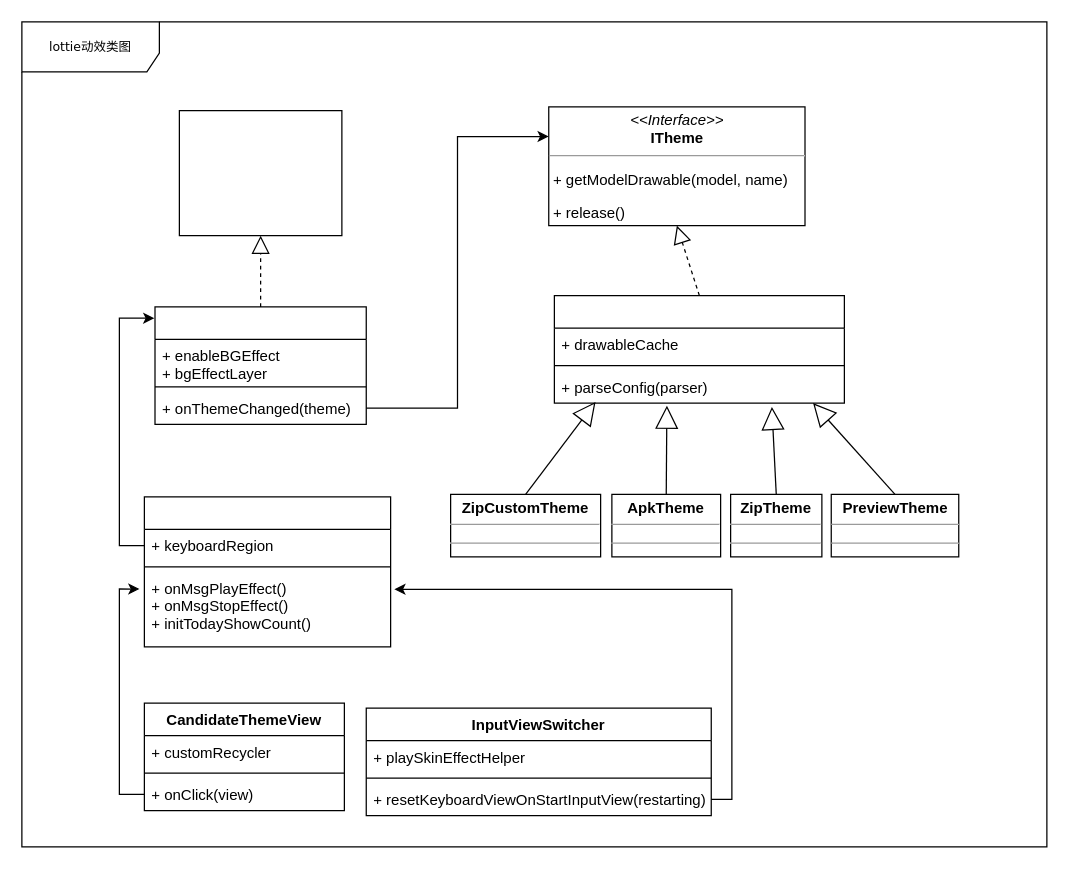
Some shapes in this 1069 by 869 pixel diagram are drawn without their labels. Here are the shapes that lost their labels. From the top down, the box of each, then its label:
(178, 109, 342, 236): <<Interface>> IPlayEffectView + startEffect () + stopEffect ()
(154, 306, 366, 424): KeyboardRegion
(553, 294, 844, 403): AbstractTheme
(143, 496, 391, 647): PlaySkinEffectHelper
